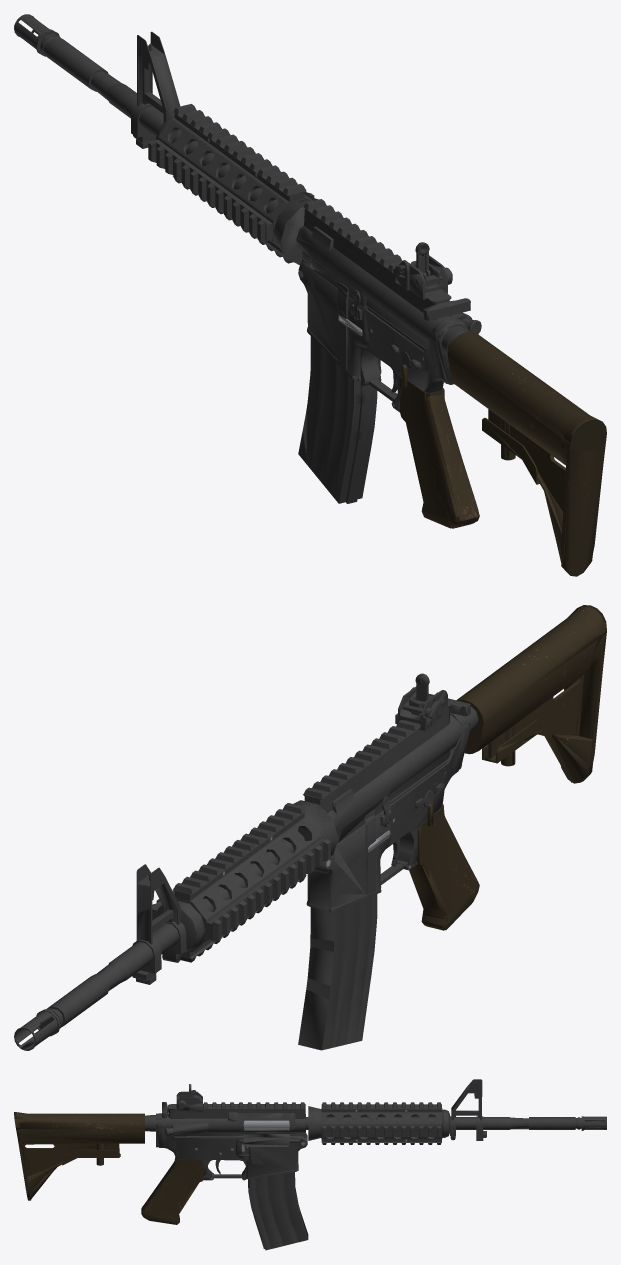
3 views of the same model, one above another, from view 1: azimuth 30°, elevation 25°; view 2: azimuth 150°, elevation 25°; view 3: azimuth 270°, elevation 25° (orthographic). The views are drawn at different scales.
Parts seen in each view (by area): view 1: Body, LOD, Magazine, RearSight; view 2: Body, LOD, Magazine, RearSight; view 3: Body, LOD, Magazine, RearSight.
Part boxes in pixels (left/top/right/bottom): Body: left=14, top=14, right=606, bottom=575; LOD: left=14, top=15, right=606, bottom=576; Magazine: left=298, top=336, right=376, bottom=503; RearSight: left=392, top=242, right=452, bottom=299; Body: left=14, top=606, right=606, bottom=1050; LOD: left=15, top=605, right=606, bottom=1050; Magazine: left=306, top=894, right=377, bottom=1050; RearSight: left=395, top=673, right=447, bottom=730; Body: left=14, top=1079, right=606, bottom=1224; LOD: left=14, top=1084, right=606, bottom=1249; Magazine: left=248, top=1172, right=307, bottom=1250; RearSight: left=176, top=1084, right=202, bottom=1111.
Bounding box in the file's own units: 0.0636 × 0.2663 × 0.8588.
1 material, 1 textured.
